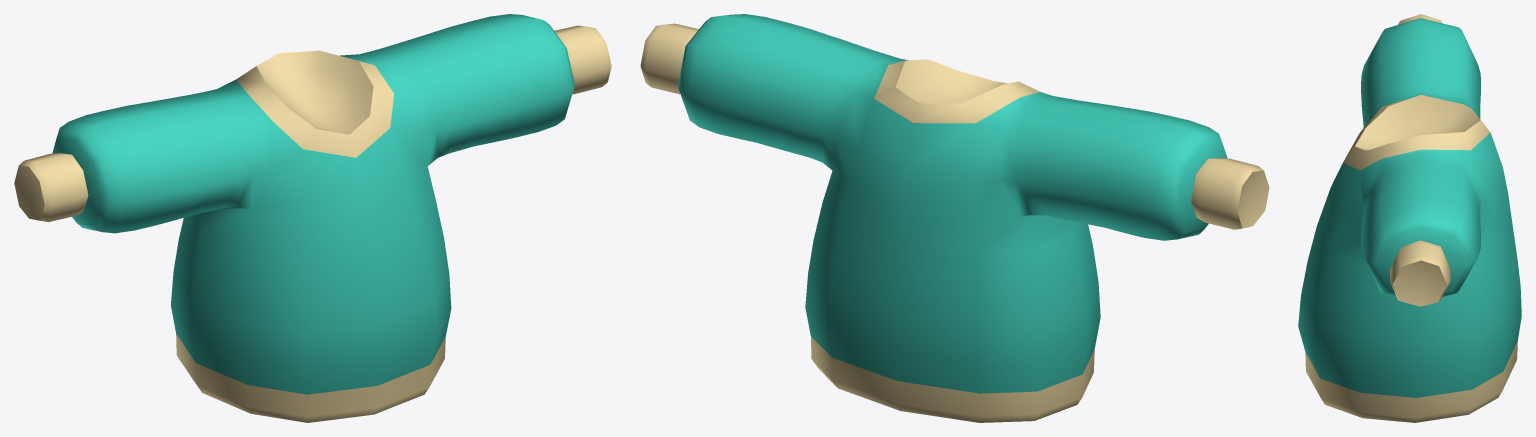
Rendered from Top_18.fbx.
3 views of the same model, side by side, from view 1: azimuth 30°, elevation 25°; view 2: azimuth 150°, elevation 25°; view 3: azimuth 270°, elevation 25° (orthographic). The views are drawn at different scales.
Visible parts, largest first — view 1: Top_18; view 2: Top_18; view 3: Top_18.
Part boxes in pixels (<box>): Top_18: <box>14,14,611,422</box>; Top_18: <box>640,14,1269,422</box>; Top_18: <box>1298,14,1521,422</box>.
Size of the model in its own units: 95.16 by 47.67 by 36.49.
